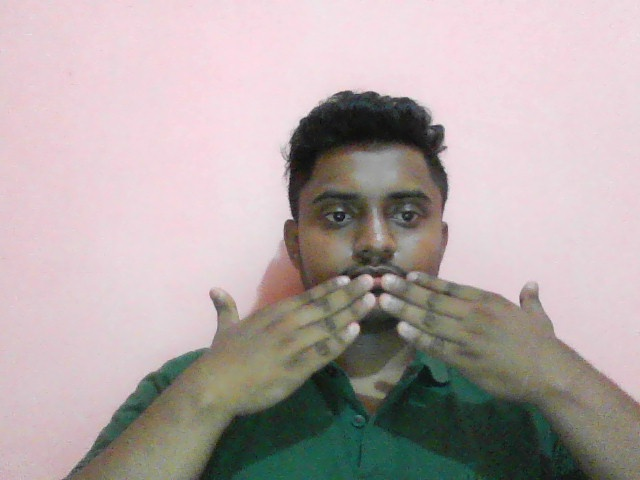Thank You: (168, 272, 587, 419)
